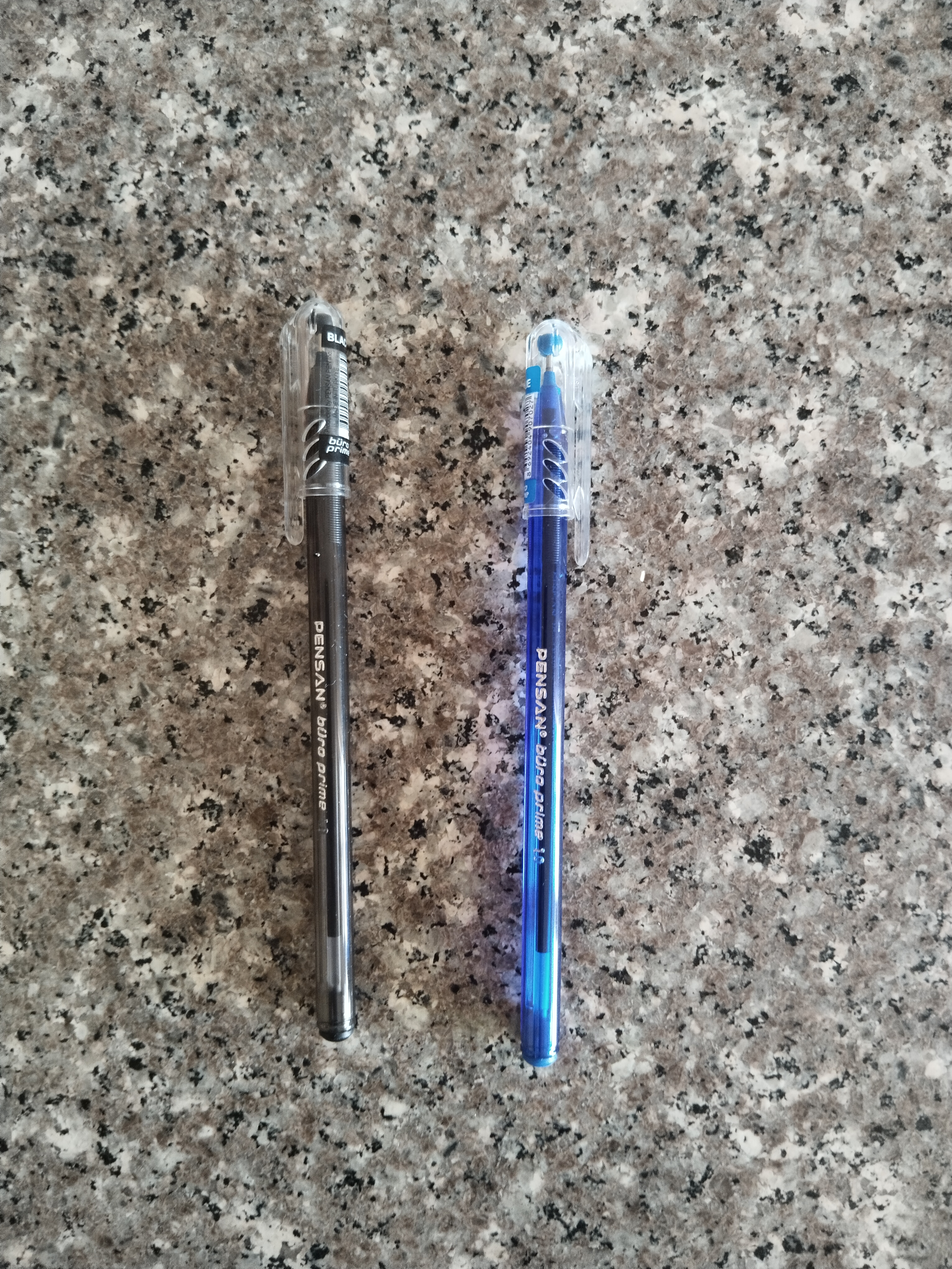pensan_mavi_tukenmez_kalem: (522, 318, 593, 1058)
pensan_siyah_tukenmez_kalem: (281, 298, 350, 1054)
